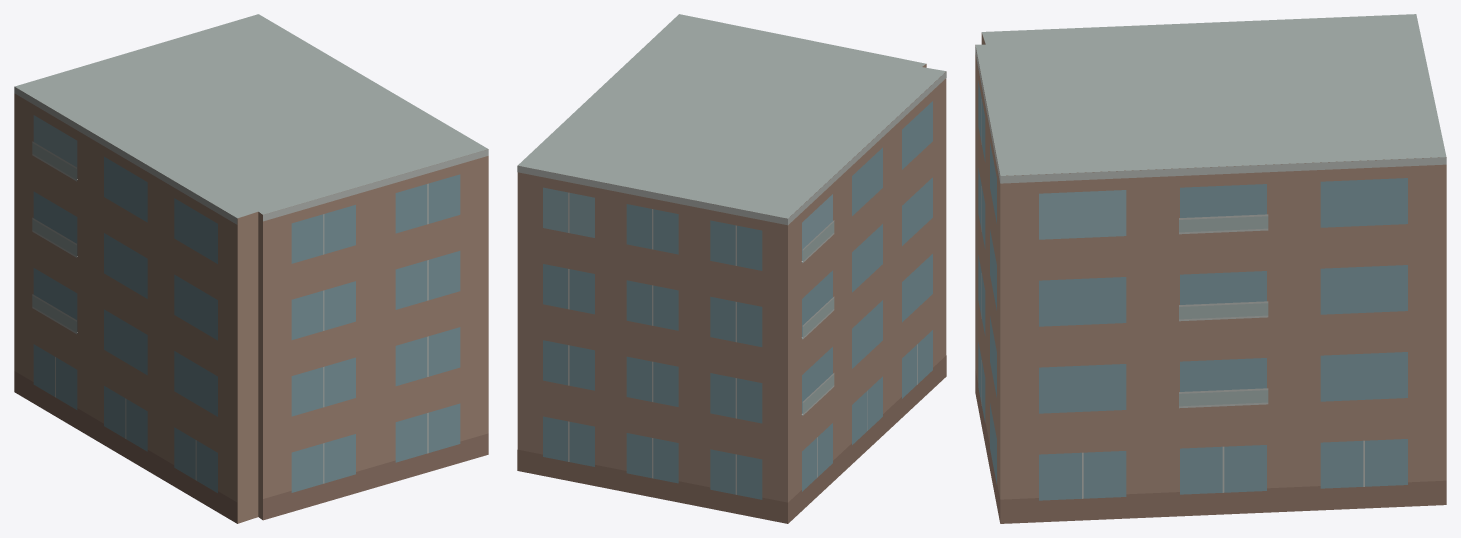
The model's file is survey-upis-32666430.glb.
3 views of the same model, side by side, from view 1: azimuth 30°, elevation 25°; view 2: azimuth 150°, elevation 25°; view 3: azimuth 270°, elevation 25° (orthographic). The views are drawn at different scales.
Parts seen in each view (by area): view 1: survey-upis-32666430.tmp; view 2: survey-upis-32666430.tmp; view 3: survey-upis-32666430.tmp.
Boxes of the visible parts, left/top/right/bottom form: survey-upis-32666430.tmp: left=14, top=14, right=488, bottom=523; survey-upis-32666430.tmp: left=517, top=14, right=946, bottom=523; survey-upis-32666430.tmp: left=975, top=14, right=1446, bottom=523.
Bounding box in the file's own units: 11.2 × 11.2 × 13.76.
